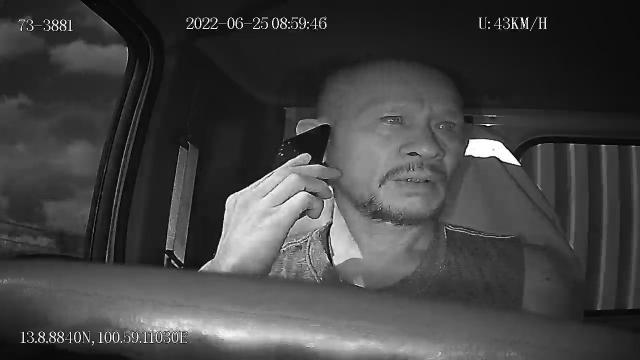PhoneUse: (276, 122, 332, 229)
SafeDriving: (370, 104, 416, 134), (426, 109, 470, 139)
